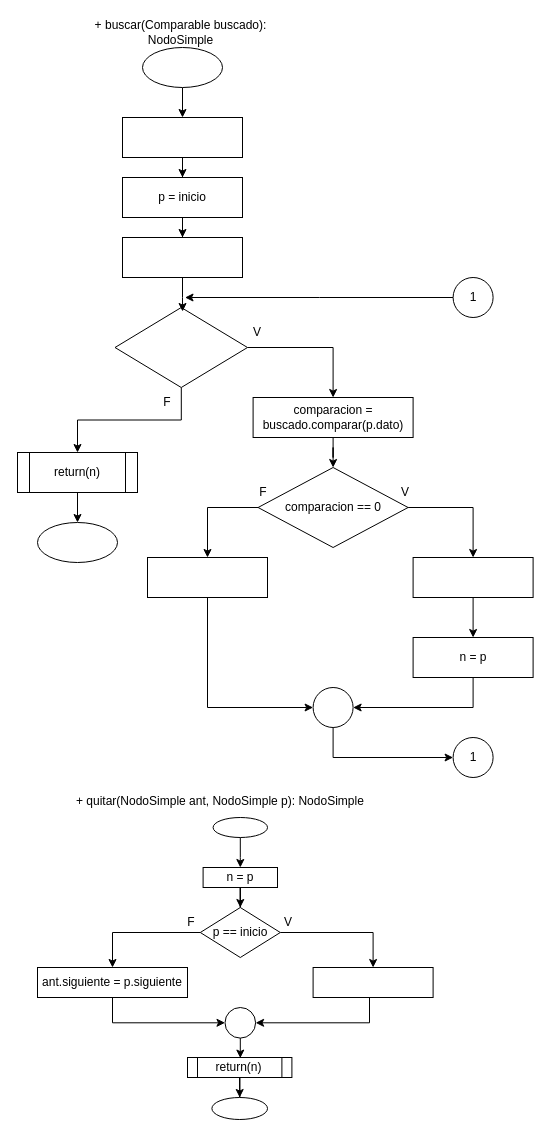
This 551x1137 diagram has some shape labels left out. Here are the shapes that lost their labels. From the top down, the centre of each, then its label:
At (x=182, y=137): "n = null".
At (x=182, y=257): "busqueda = false".
At (x=181, y=347): "p != null && !(busqueda)".
At (x=207, y=577): "p = p.siguiente".
At (x=472, y=577): "busqueda = true".
At (x=372, y=982): "inicio = p.siguiente".
